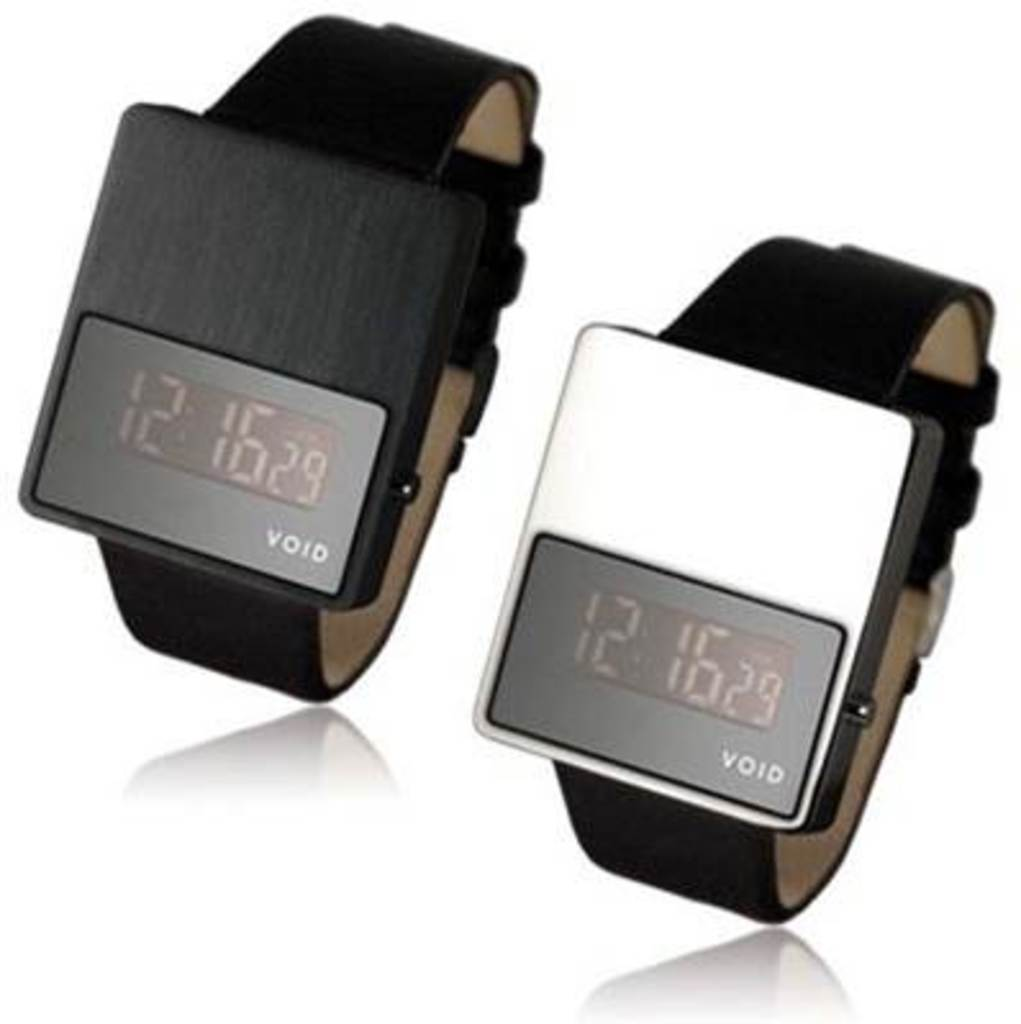watch: (446, 225, 1005, 923), (7, 7, 543, 698)
